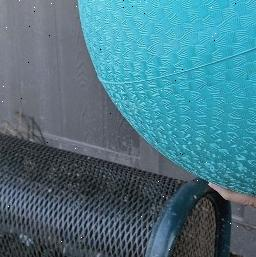algae: (82, 0, 256, 195)
